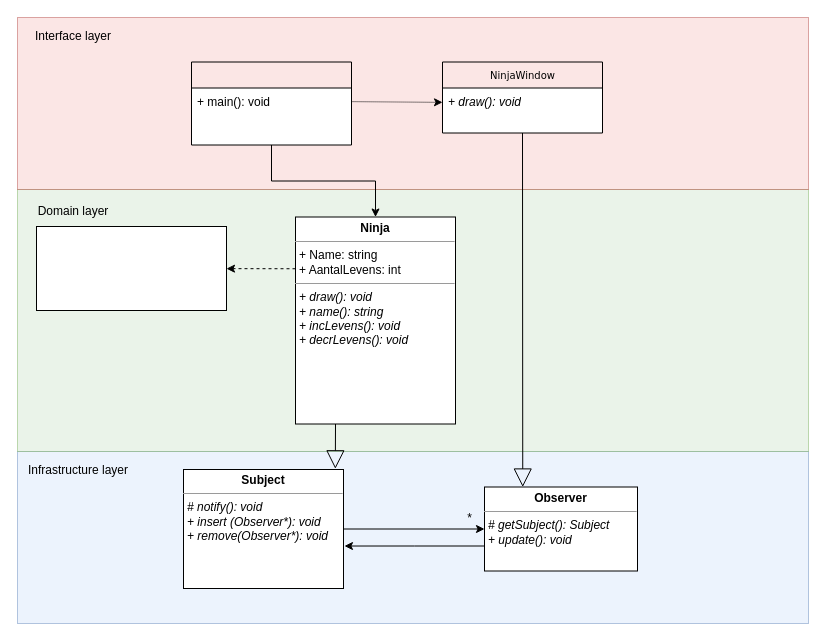
The diagram is 826 pixels wide and 641 high, and some of its shapes have lost their labels. The shapes that lost their labels are listed below. From the top down, each one's box as (x1, y1, x2, y2) in pixels, then its label:
(190, 61, 352, 145): Applicatie
(36, 226, 226, 310): <<Interface>> Element + draw(): void + name(): string
